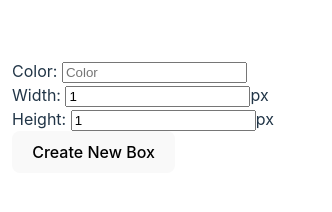
adds new box
Type "blue" into the field labelled "Color:" at (154,73), box x1=62 y1=62 x2=247 y2=83
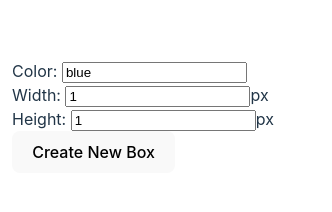
Replace the text in the number field labelled "Width:" with "55" at (158,97), box x1=66 y1=86 x2=250 y2=107
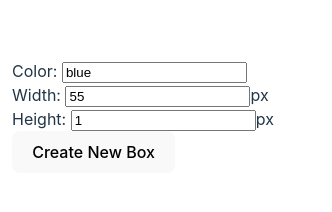
Replace the text in the number field labelled "Height:" with "55" at (163,121), box x1=71 y1=110 x2=256 y2=131
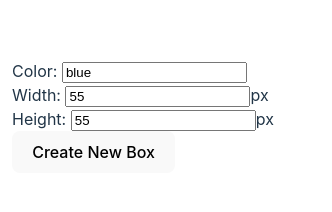
Click the button "Create New Box" at (94,152), box x1=12 y1=131 x2=175 y2=173
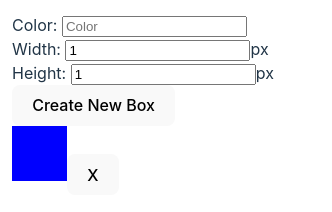
Now the button "X" is shown, box x1=67 y1=154 x2=119 y2=195
